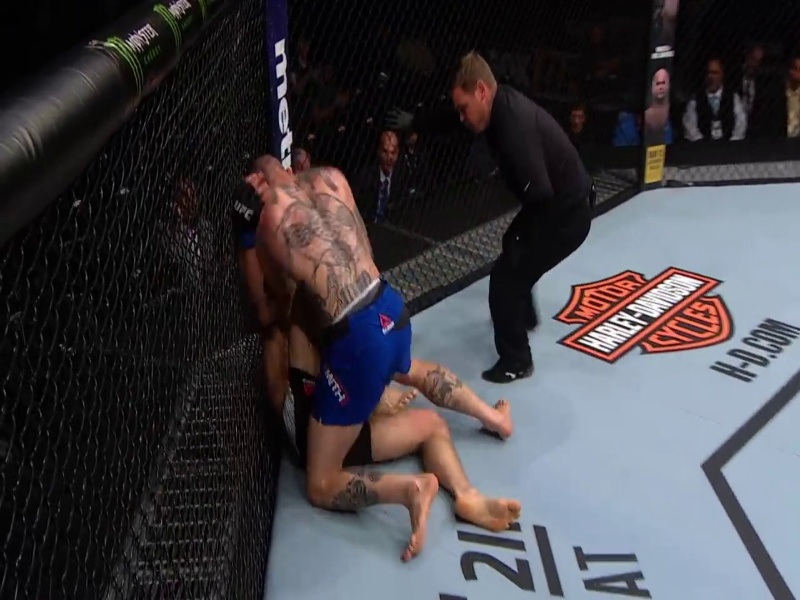fighter: (228, 148, 519, 560), (235, 174, 518, 534)
